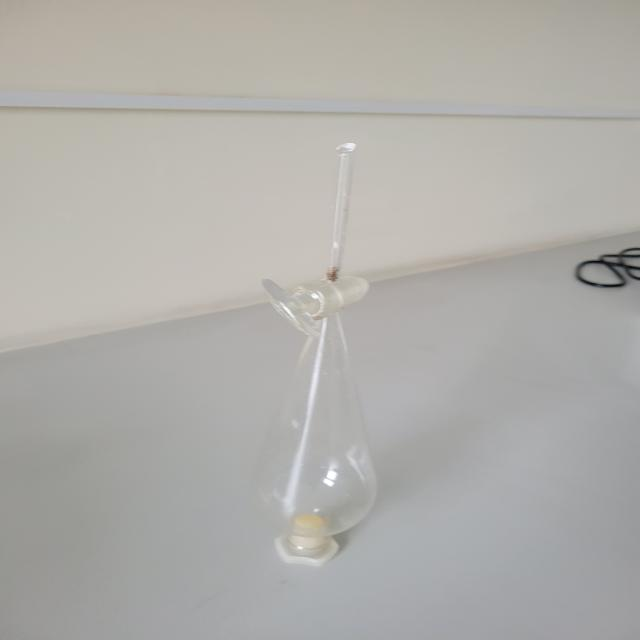Separating_Funnel: (216, 100, 431, 587)
